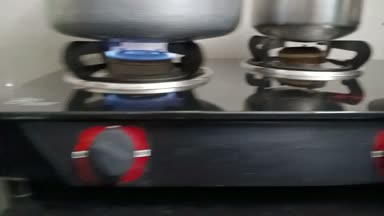flame_gas_on: (53, 31, 207, 190)
